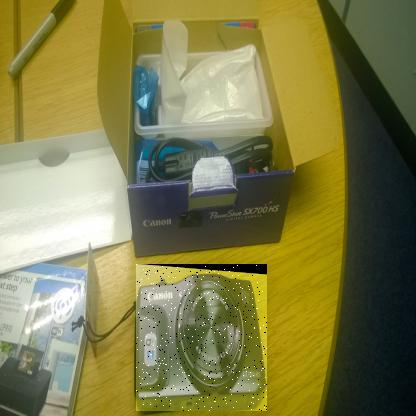Camera: (137, 265, 269, 413)
